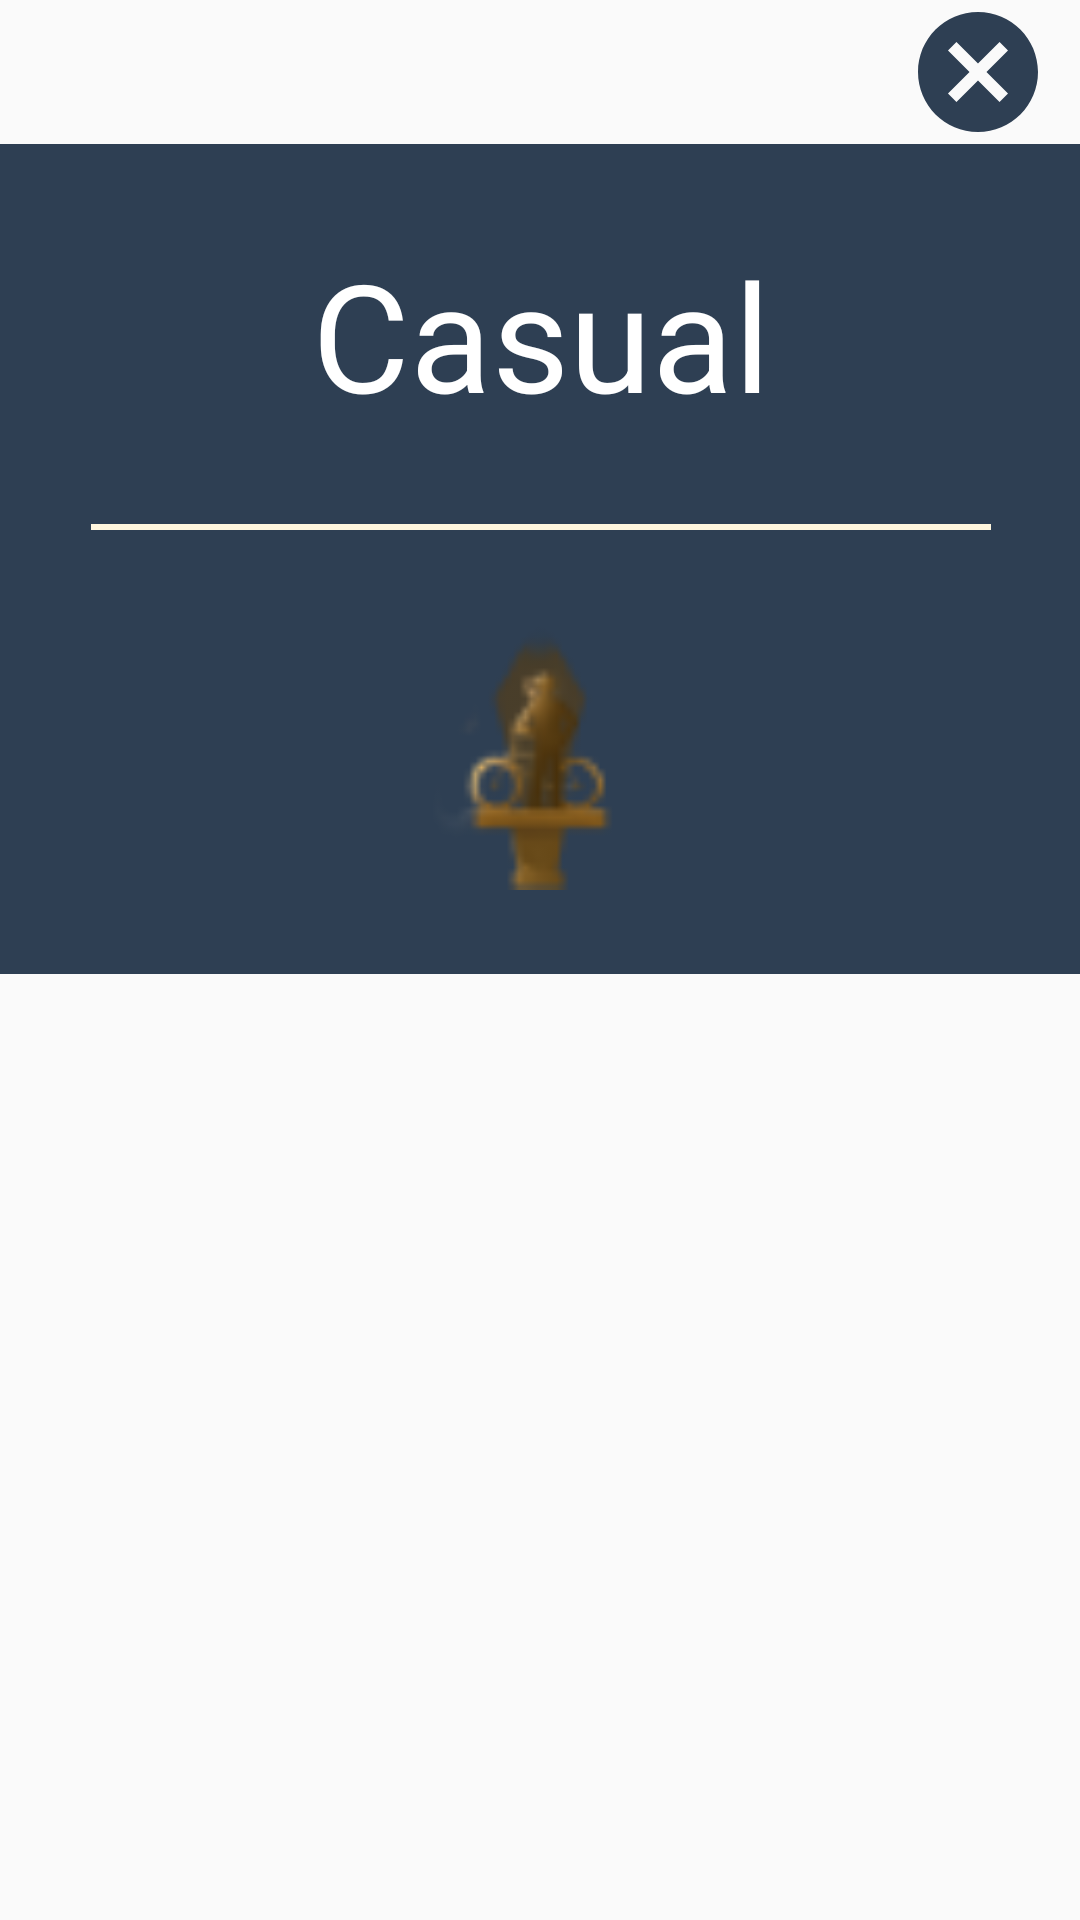

Where icons sit on this 1080px×1920px app screen, as detection(x1, y1, x2, y2):
cancel: detection(918, 12, 1038, 132)
